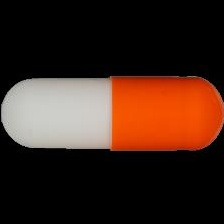68084-401: (0, 0, 224, 224)
